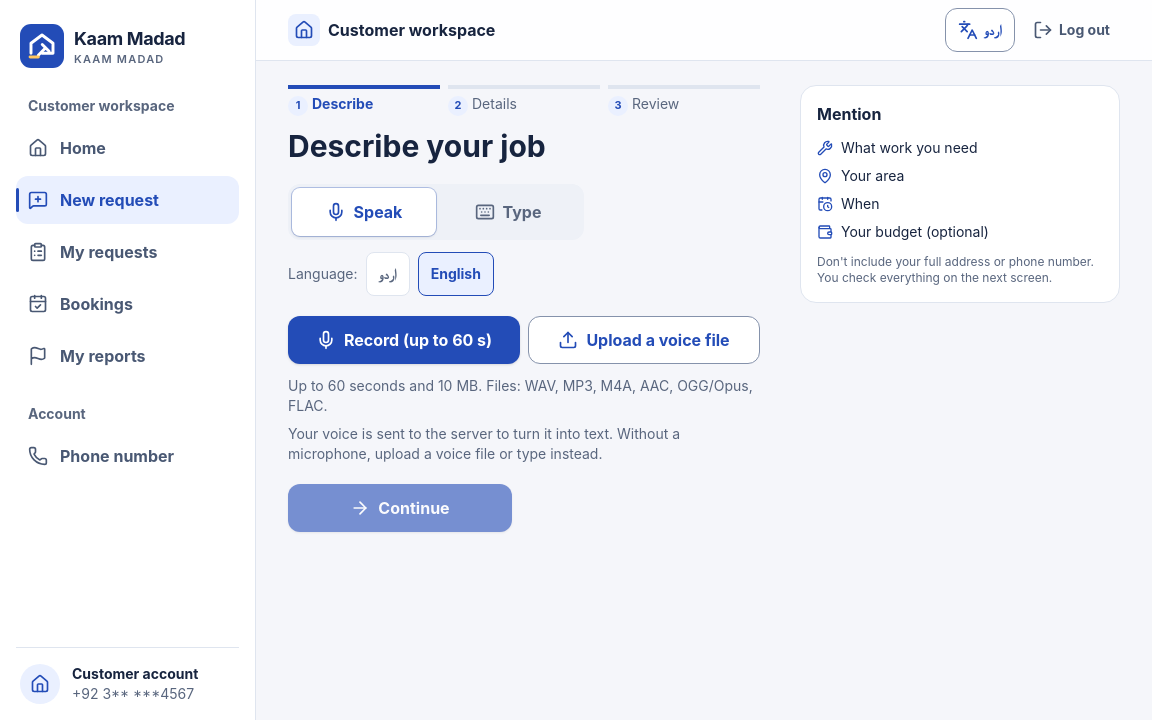
Test case: customer request keeps input across a language switch › keeps the typed description and mode when the interface switches to Urdu
Click the button "Type".
click(508, 212)  # box top-left (436, 188), bottom-right (580, 236)
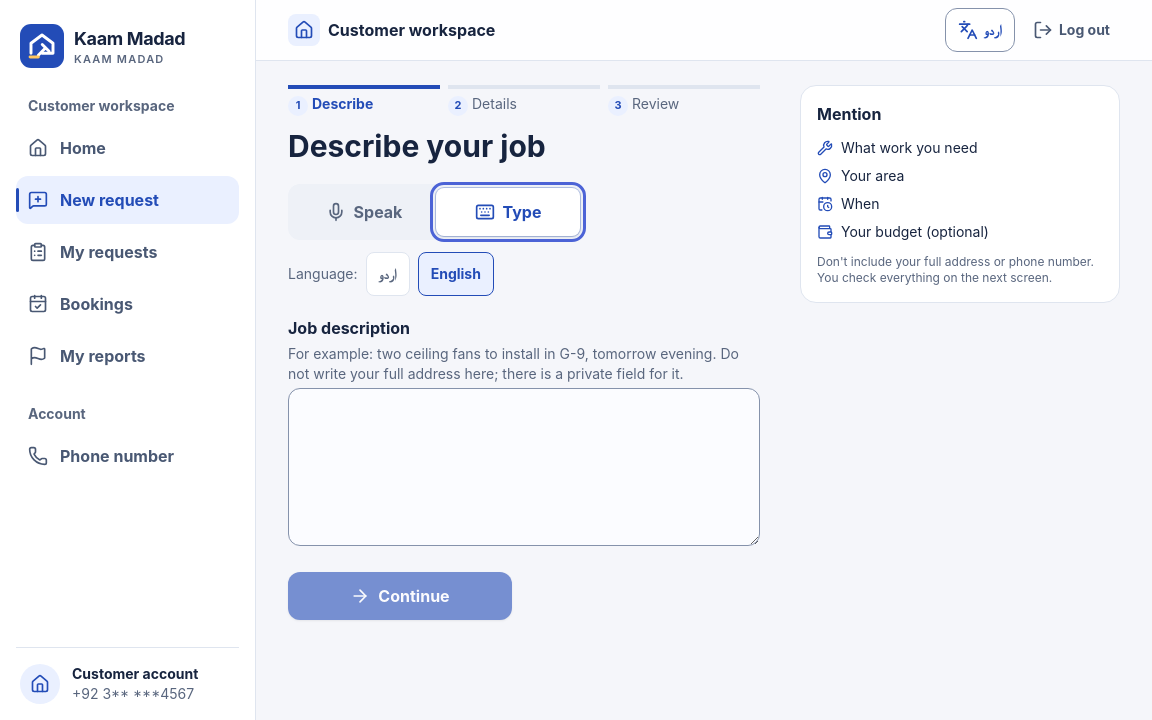
Type "Two fans in G-9" into the text box labelled "Job description".
click(524, 467); type("Two fans in G-9")  # box top-left (288, 388), bottom-right (760, 546)
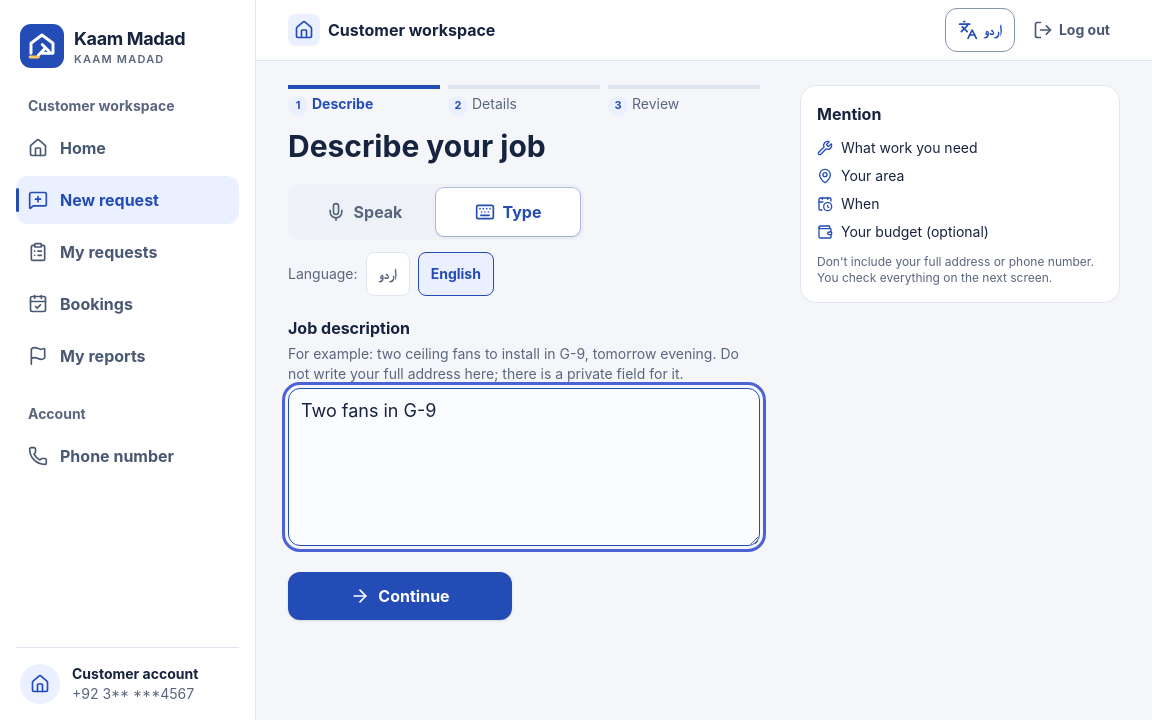
Click the 1st button "اردو".
click(980, 30)  # box top-left (945, 8), bottom-right (1015, 52)
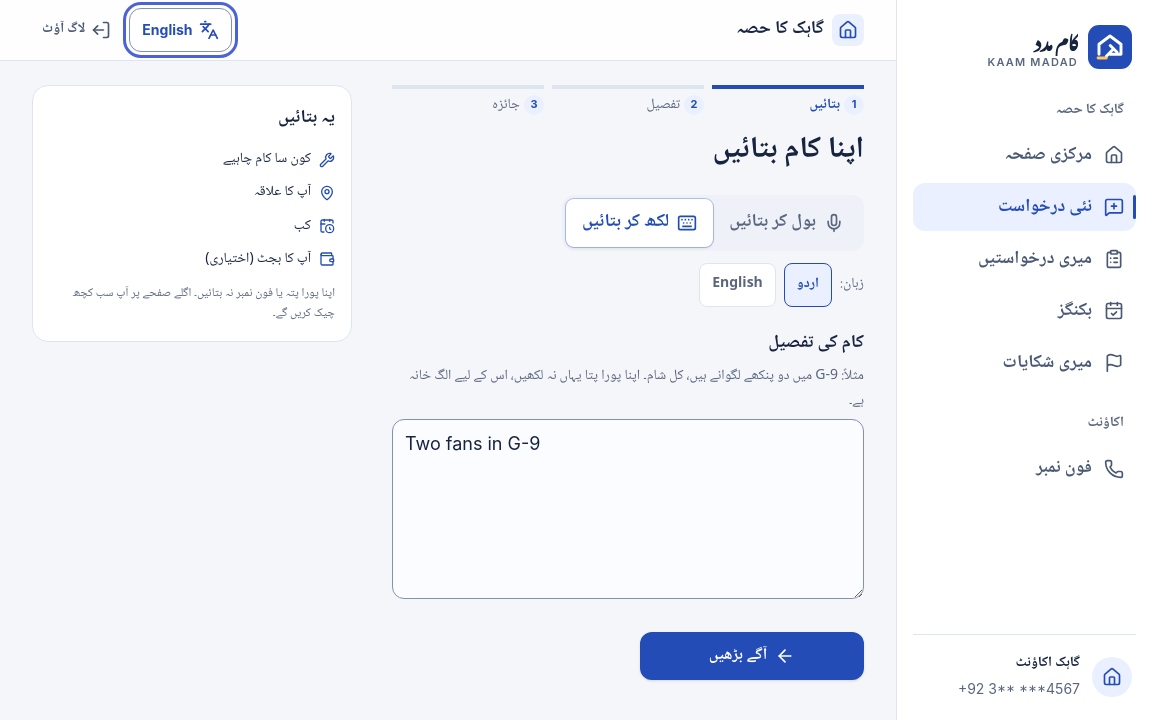
expect the button "لکھ کر بتائیں" is pressed: met, box top-left (566, 199), bottom-right (713, 247)
